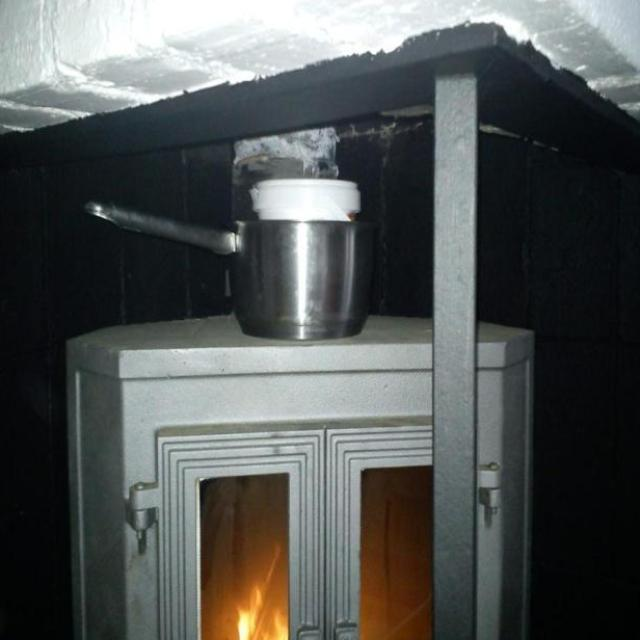smoke: (232, 579, 291, 640)
